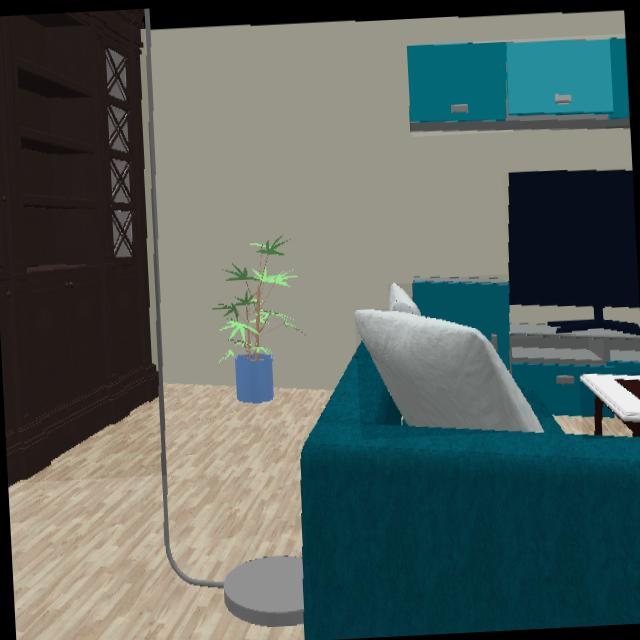bookshelf: (0, 9, 157, 484)
cabinet: (414, 279, 640, 415), (408, 39, 628, 132)
monitor: (509, 173, 640, 332)
pillow: (355, 309, 542, 431), (390, 285, 419, 315)
table: (580, 375, 640, 437)
